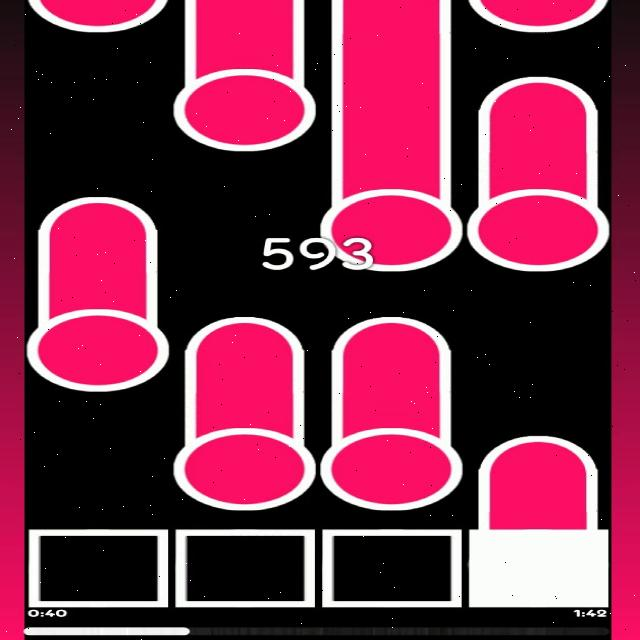end_hold: (326, 309, 457, 358), (478, 422, 598, 471), (183, 306, 304, 354), (474, 68, 598, 112), (35, 187, 160, 229)
start_hold: (28, 285, 169, 392), (172, 408, 316, 511), (322, 409, 464, 511), (467, 172, 610, 271), (319, 176, 461, 271), (175, 57, 316, 152), (26, 0, 170, 34), (463, 0, 610, 31)
